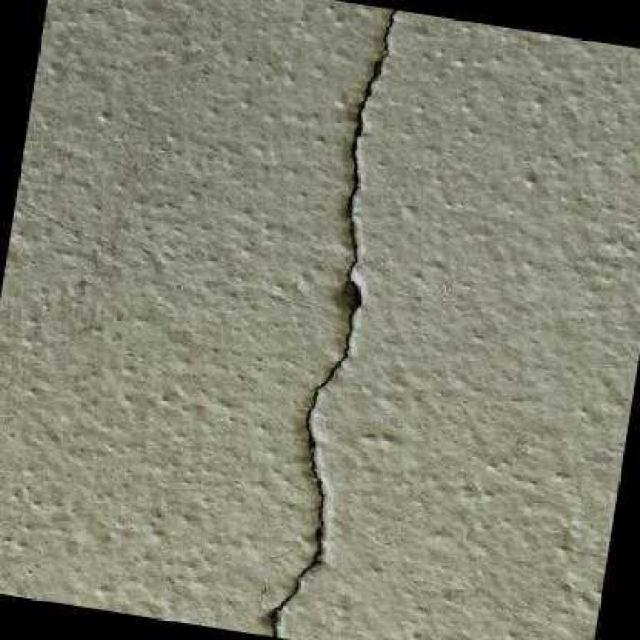D00: (265, 7, 399, 637)
